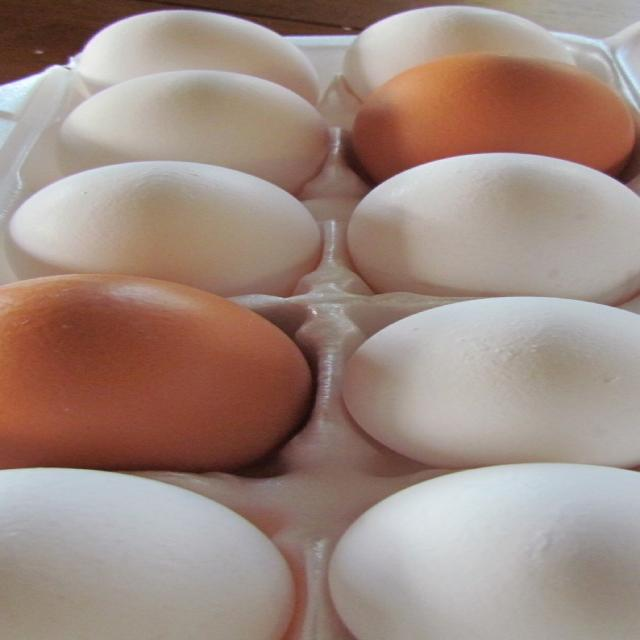Egg: (0, 9, 331, 640), (328, 6, 639, 640), (8, 270, 309, 472), (347, 148, 640, 299), (342, 45, 640, 171)
